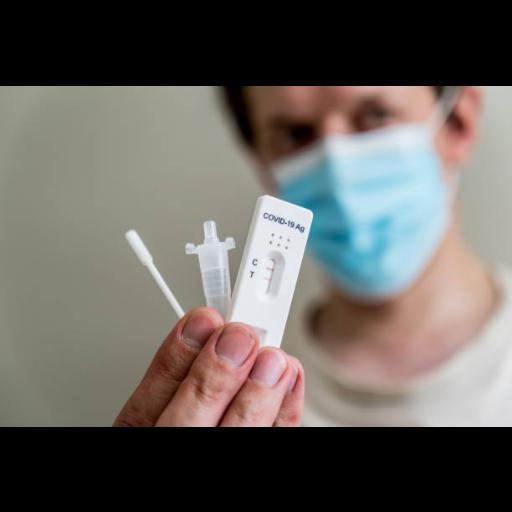Pos: (224, 194, 314, 351)
